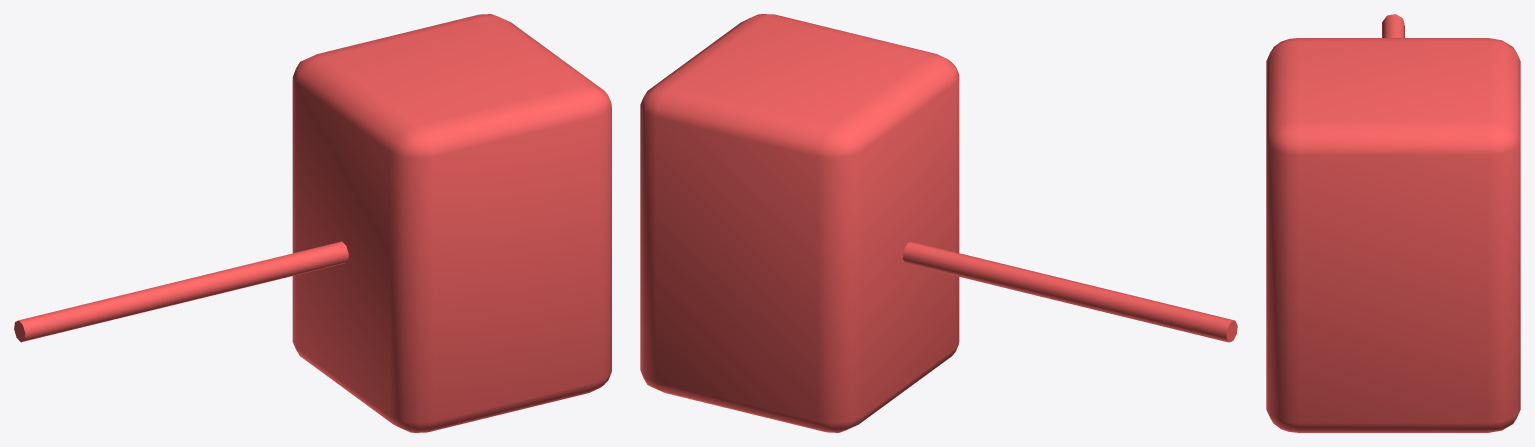
Rendered from obstacle_hammer_hammer_01.FBX.
The picture shows the model from 3 angles, left to right: view 1: azimuth 30°, elevation 25°; view 2: azimuth 150°, elevation 25°; view 3: azimuth 270°, elevation 25°; orthographic projection.
Parts seen in each view (by area): view 1: obstacle_hammer_hammer_01; view 2: obstacle_hammer_hammer_01; view 3: obstacle_hammer_hammer_01.
Part boxes in pixels (x1,y1,x2,y2): obstacle_hammer_hammer_01: (14,14,611,432); obstacle_hammer_hammer_01: (640,14,1237,432); obstacle_hammer_hammer_01: (1266,14,1520,432).
Size of the model in its own units: 14.91 by 8 by 6.
1 material, 1 textured.
